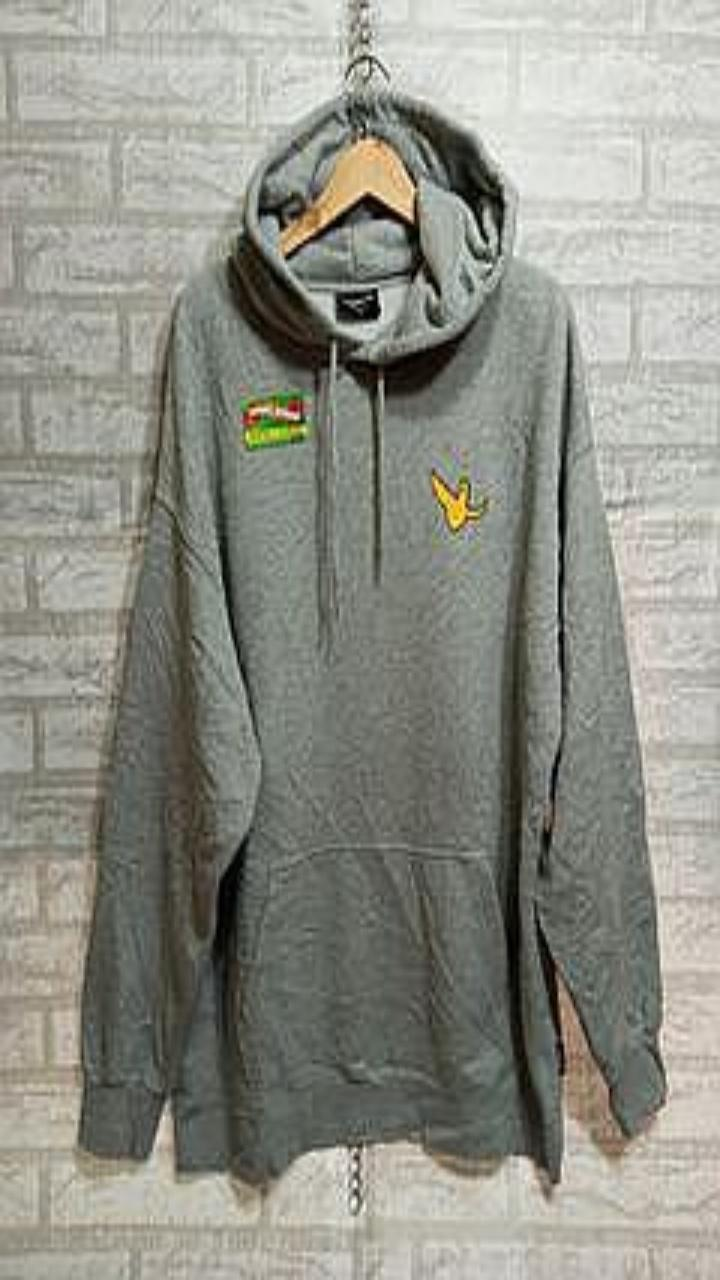Hoodie: (79, 87, 665, 1182)
